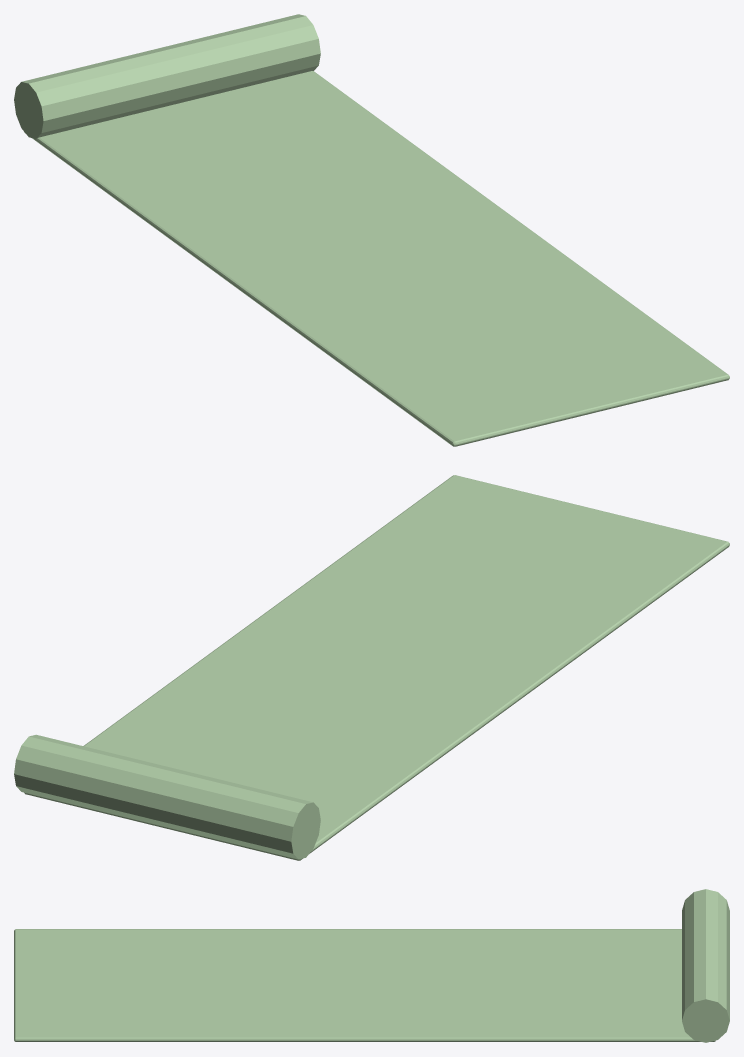
File: cozy-home-interiors-exercise-mat-73653ff3.glb
The picture shows the model from 3 angles, top to bottom: view 1: azimuth 30°, elevation 25°; view 2: azimuth 150°, elevation 25°; view 3: azimuth 270°, elevation 25°; orthographic projection. The views are drawn at different scales.
Visible parts, largest first — view 1: exercise-mat; view 2: exercise-mat; view 3: exercise-mat.
Part boxes in pixels (x1,y1,x2,y2): exercise-mat: [14, 14, 729, 446]; exercise-mat: [14, 475, 729, 860]; exercise-mat: [14, 889, 729, 1042].
Bounding box in the file's own units: 0.6501 × 0.1201 × 1.79.
